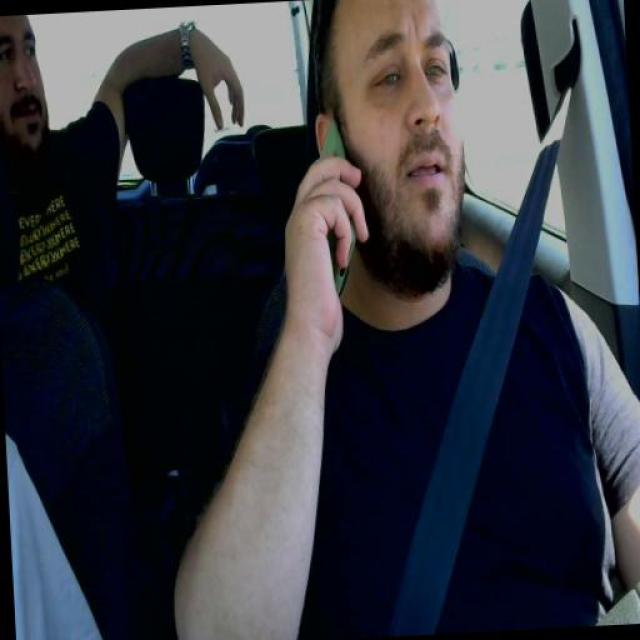phone: (309, 125, 357, 292)
